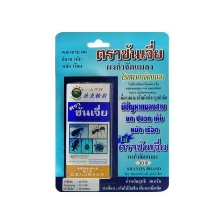book: (52, 29, 172, 193)
insecticide: (62, 80, 114, 181)
